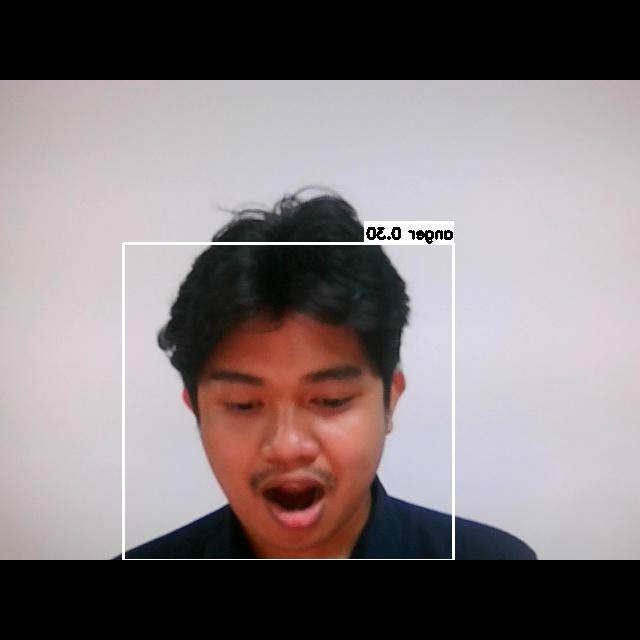Surprised: (177, 331, 414, 538)
